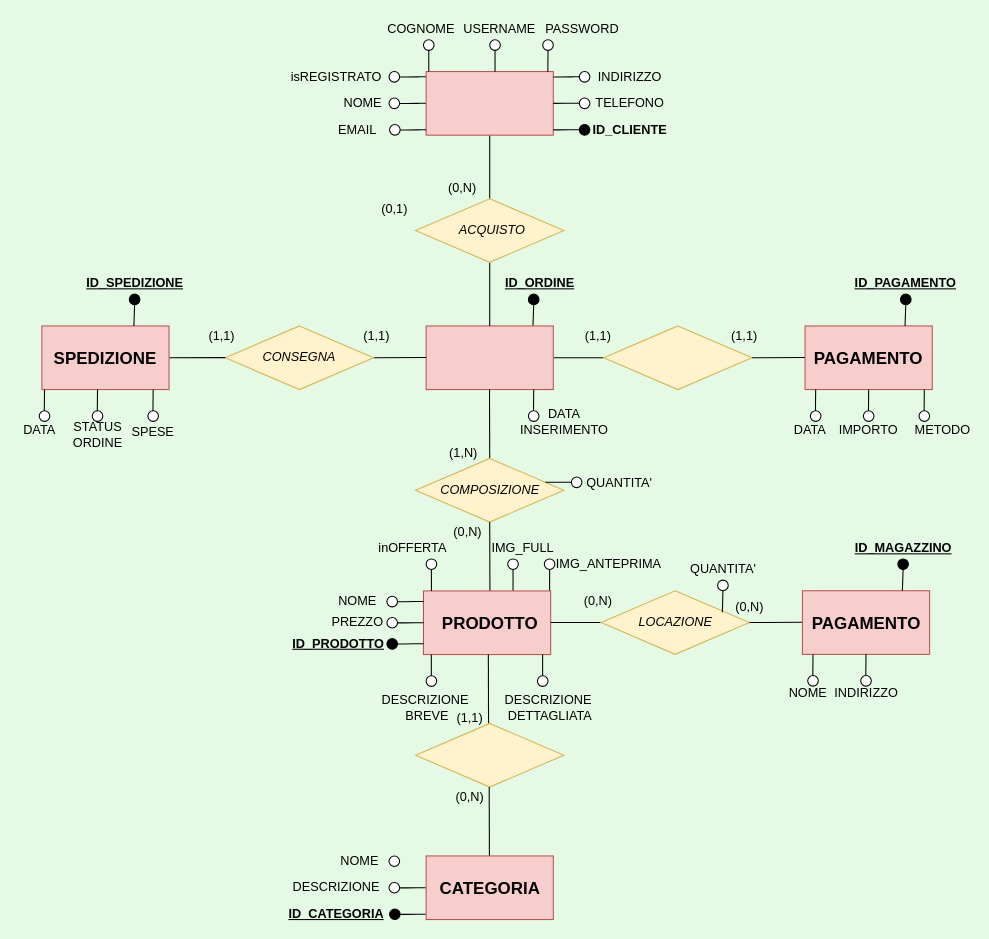
The diagram is 989 pixels wide and 939 high, and some of its shapes have lost their labels. The shapes that lost their labels are listed below. From the top down, each one's centre as x and y in pixels, then its label:
(x=489, y=102): CLIENTE
(x=489, y=357): ORDINE
(x=677, y=357): FATTURAZIONE
(x=489, y=754): APPARTENENZA
